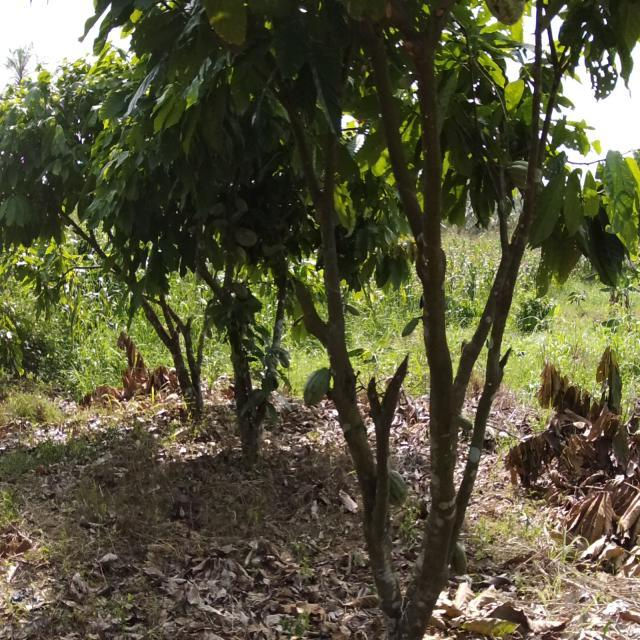Immature: (402, 310, 422, 340), (342, 300, 362, 323)
Mature_Unripe: (379, 465, 413, 511), (305, 365, 336, 411), (450, 538, 473, 582), (236, 228, 260, 260)
